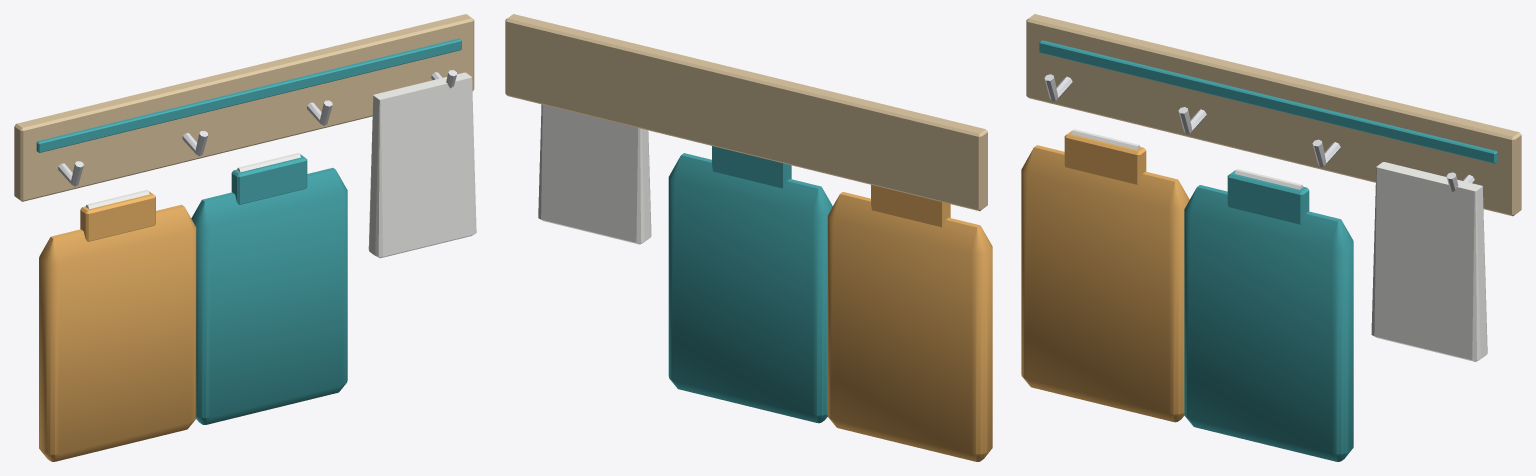
File: pet-shop-and-grooming-salon-apron-hook-rail-5f7f5e52__34599.glb
3 views of the same model, side by side, from view 1: azimuth 30°, elevation 25°; view 2: azimuth 150°, elevation 25°; view 3: azimuth 330°, elevation 25° (orthographic). The views are drawn at different scales.
Visible parts, largest first — view 1: apron-hook-rail; view 2: apron-hook-rail; view 3: apron-hook-rail.
Part boxes in pixels (left/top/right/bottom): apron-hook-rail: left=14, top=14, right=476, bottom=461; apron-hook-rail: left=505, top=14, right=992, bottom=461; apron-hook-rail: left=1021, top=14, right=1521, bottom=461.
Size of the model in its own units: 0.9 by 0.62 by 0.0963.
